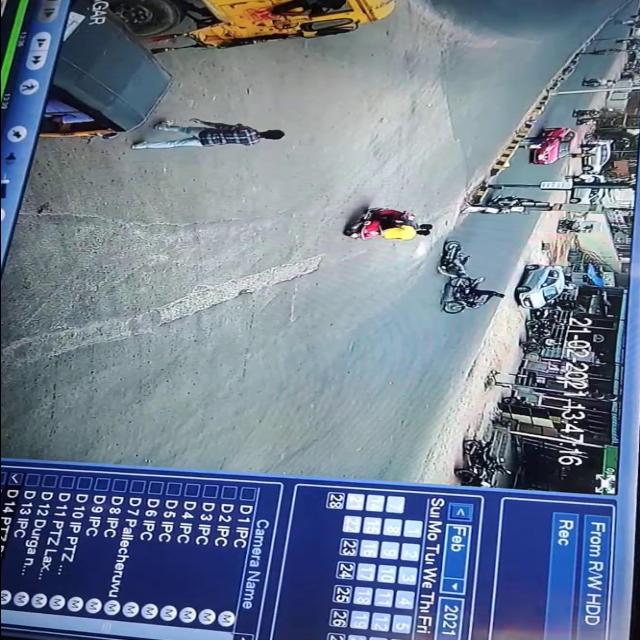accident: (418, 236, 482, 296)
